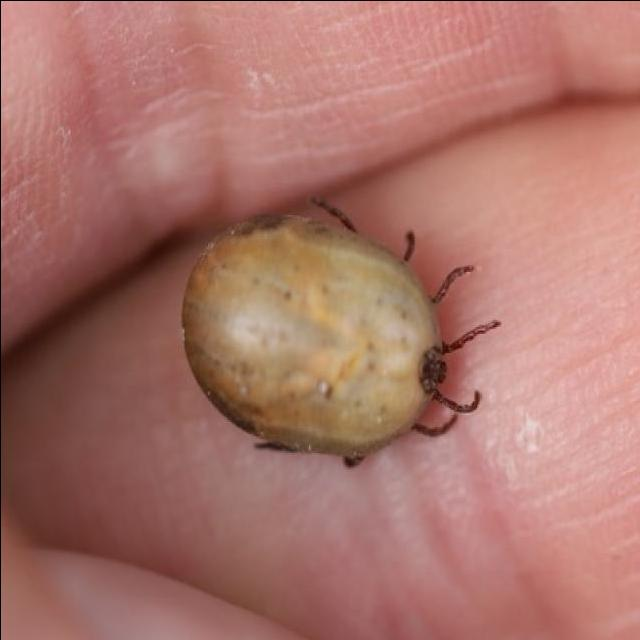Dermacentor Reticulatus-F-Fed: (180, 193, 500, 467)
